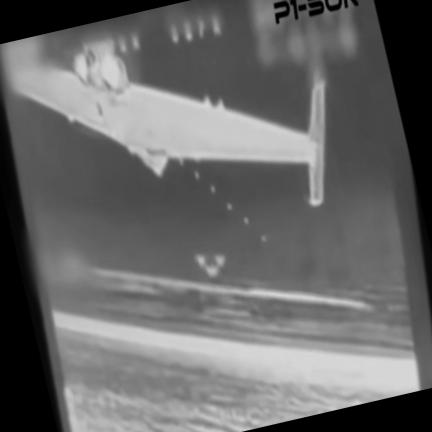Shahed: (15, 46, 326, 207)
